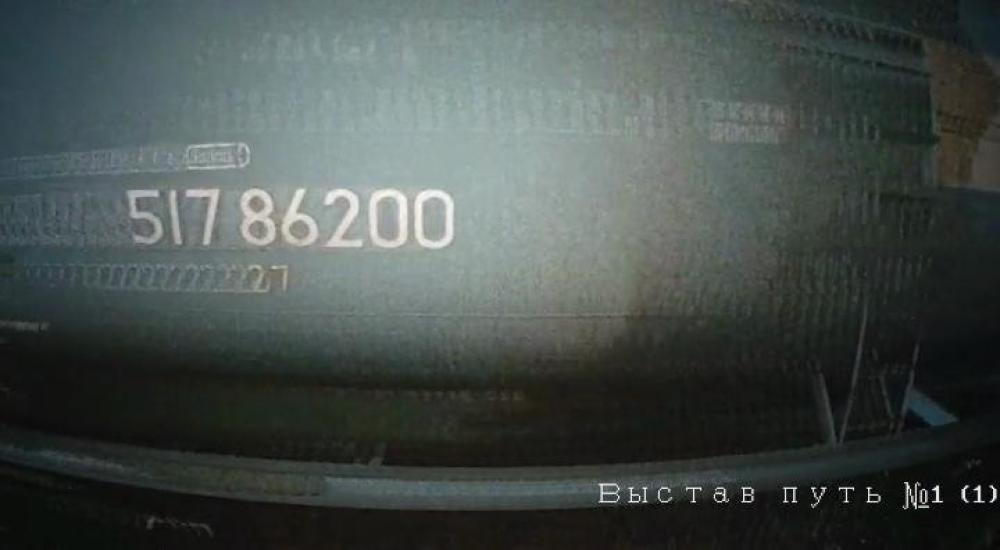Wagon-number: (122, 182, 460, 255)
